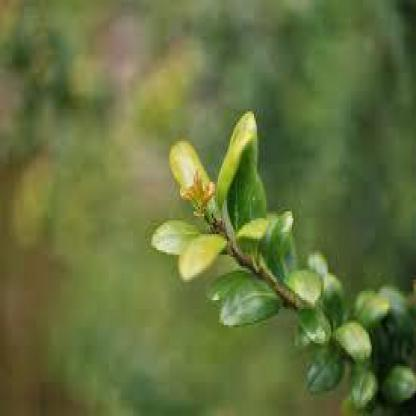Kenanga: (157, 115, 252, 276)
